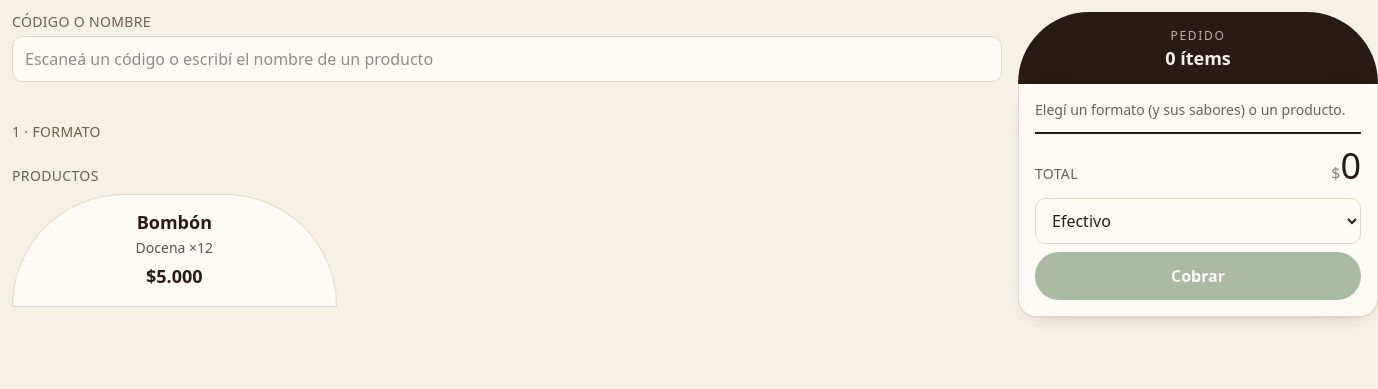
Scenario: FormularioTicket: después de cobrar › si la venta entró pero no se pudo leer el total, el aviso igual sale
Click the button "Bombón Docena ×12 $5.000". click: (174, 250)
box: [12,194,337,306]
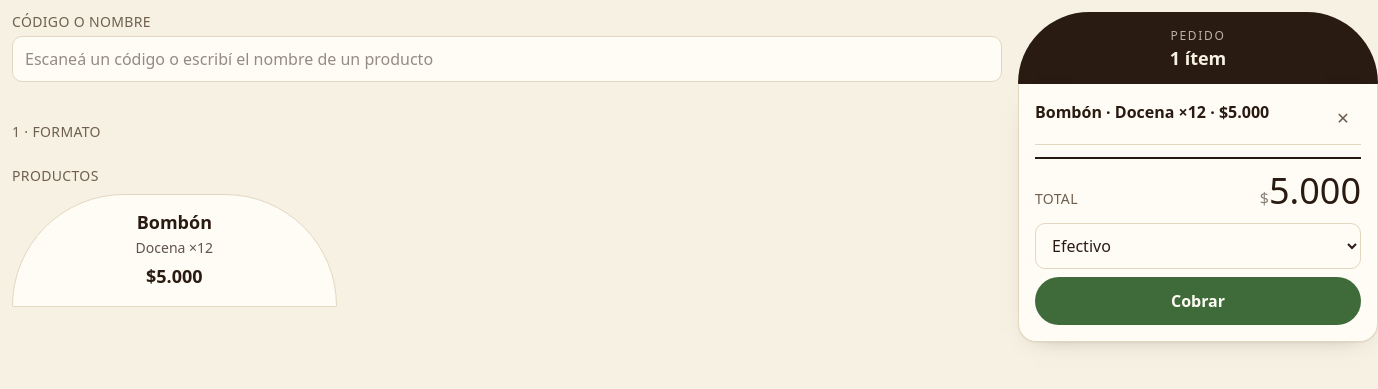
Submit the form "Cobrar", box [1035,223,1361,325]
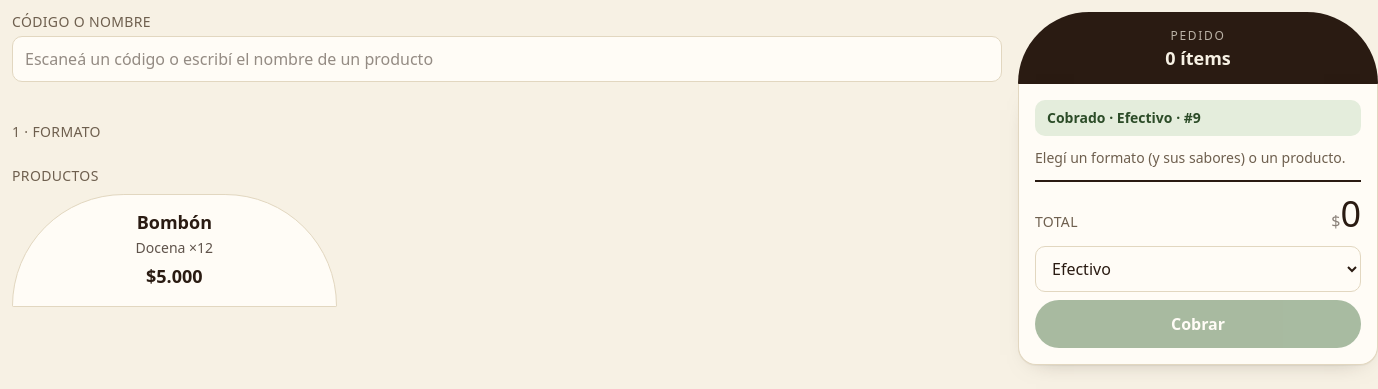
Expected: the message reads "Cobrado · Efectivo · #9", [1035,100,1361,136]
